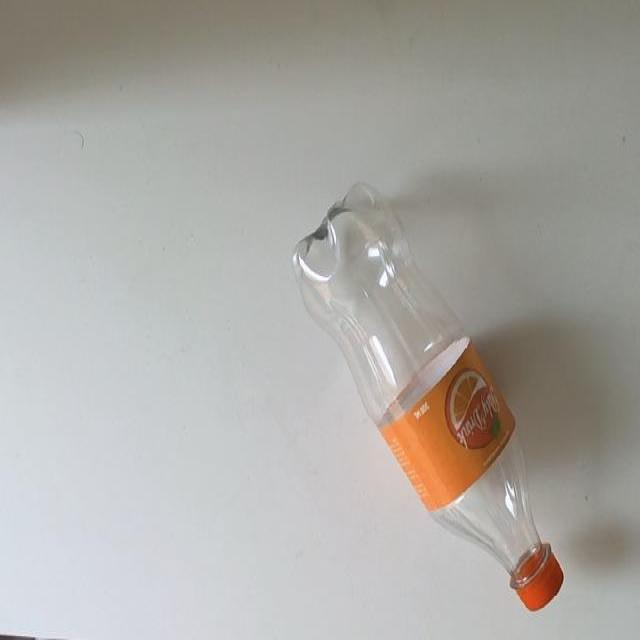non-defect: (290, 181, 565, 613)
